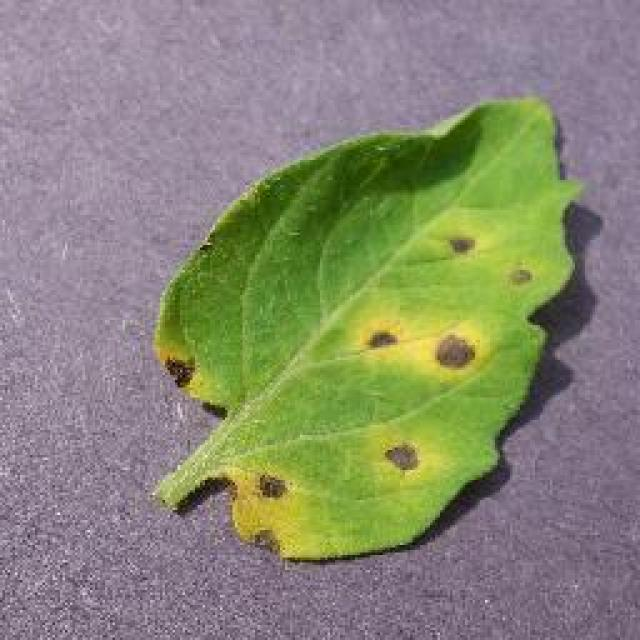Tomato target spot leaf: (156, 95, 582, 560)
